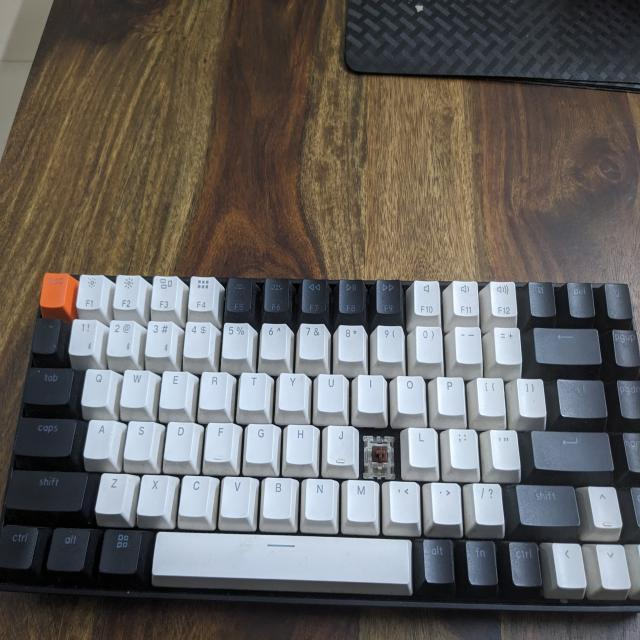key-switch: (360, 431, 396, 478)
